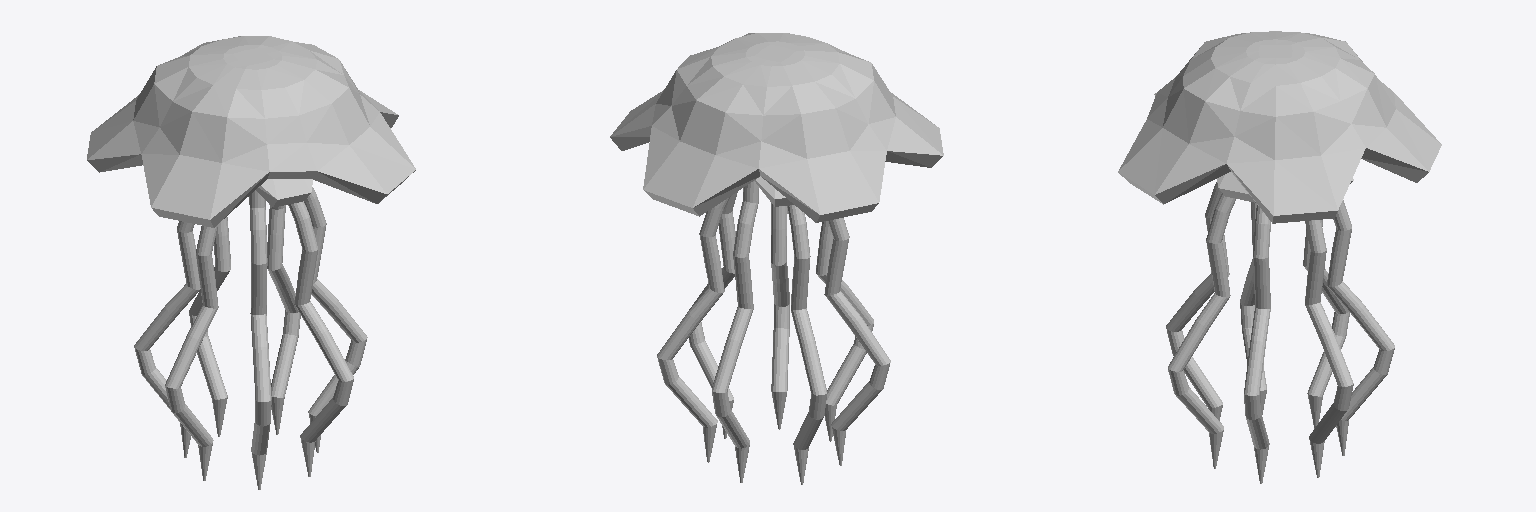
The model's file is JellyFish.obj.
The picture shows the model from 3 angles: view 1: azimuth 30°, elevation 25°; view 2: azimuth 150°, elevation 25°; view 3: azimuth 270°, elevation 25°; orthographic projection.
Visible parts, largest first — view 1: GreenJellyfish; view 2: GreenJellyfish; view 3: GreenJellyfish.
Boxes of the visible parts, x1,y1,x2,y2 form: GreenJellyfish: [87, 36, 415, 489]; GreenJellyfish: [610, 33, 943, 484]; GreenJellyfish: [1118, 31, 1441, 483].
Size of the model in its own units: 2.34 by 3.22 by 2.34.